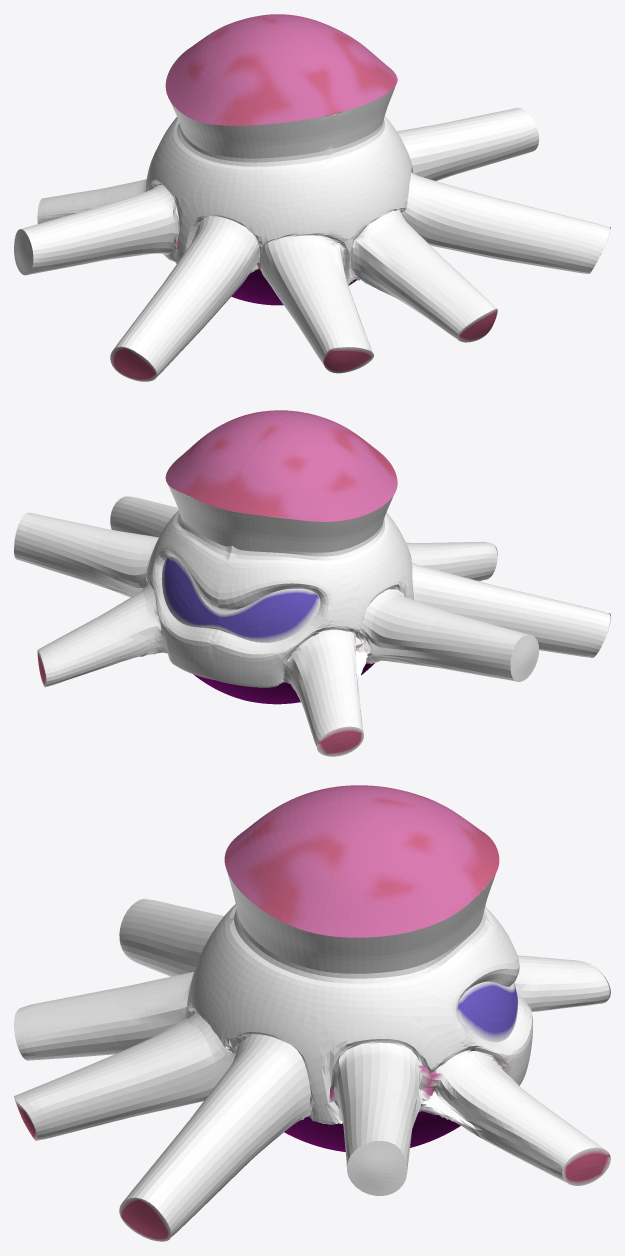
The model's file is Spaceship.fbx.
The picture shows the model from 3 angles, top to bottom: view 1: azimuth 30°, elevation 25°; view 2: azimuth 150°, elevation 25°; view 3: azimuth 270°, elevation 25°; orthographic projection. The views are drawn at different scales.
Parts seen in each view (by area): view 1: PolySphere2, PolySphere2_2, PolySphere, PolySphere2_3, PolySphere2_1, PolySphere1; view 2: PolySphere2, PolySphere, PolySphere2_1, PolySphere1, PolySphere2_2, PolySphere2_3; view 3: PolySphere2, PolySphere, PolySphere2_3, PolySphere2_2, PolySphere1, PolySphere2_1.
Part boxes in pixels (x1,y1,x2,y2): PolySphere2: (144, 86, 417, 305); PolySphere2_2: (110, 175, 610, 381); PolySphere: (165, 14, 397, 125); PolySphere2_3: (265, 204, 497, 373); PolySphere2_1: (14, 108, 539, 275); PolySphere1: (37, 179, 146, 223); PolySphere2: (144, 485, 417, 704); PolySphere: (165, 410, 397, 521); PolySphere2_1: (14, 512, 539, 681); PolySphere1: (37, 587, 367, 756); PolySphere2_2: (110, 496, 610, 657); PolySphere2_3: (406, 541, 497, 581); PolySphere2: (186, 873, 532, 1151); PolySphere: (224, 785, 499, 937); PolySphere2_3: (14, 972, 224, 1140); PolySphere2_2: (119, 898, 317, 1241); PolySphere1: (418, 955, 610, 1185); PolySphere2_1: (315, 1036, 443, 1195).
Size of the model in its own units: 4.25 by 2.15 by 3.43.
